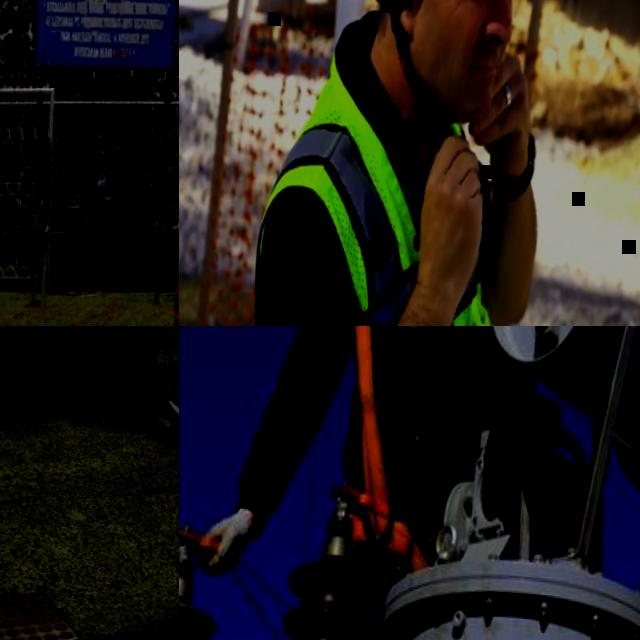no_mask: (414, 0, 516, 129)
no_vest: (349, 326, 497, 516)
person: (191, 326, 559, 640), (243, 0, 575, 326), (126, 39, 179, 326)
vest: (243, 49, 513, 326)
